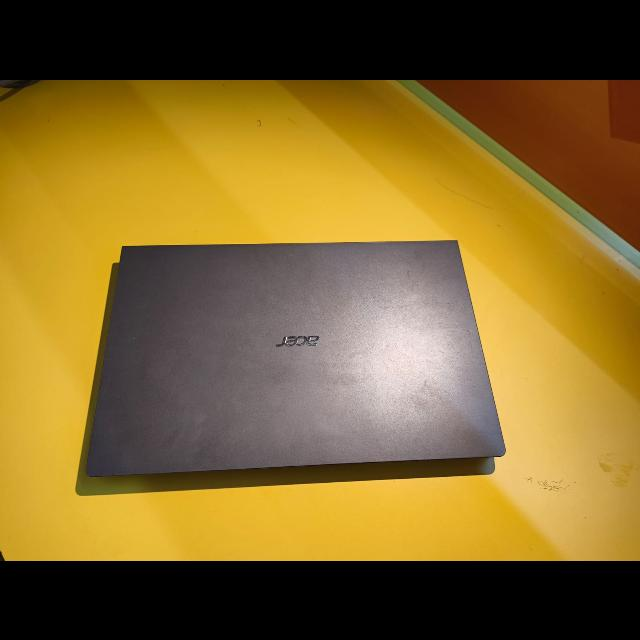laptop: (70, 230, 520, 510)
